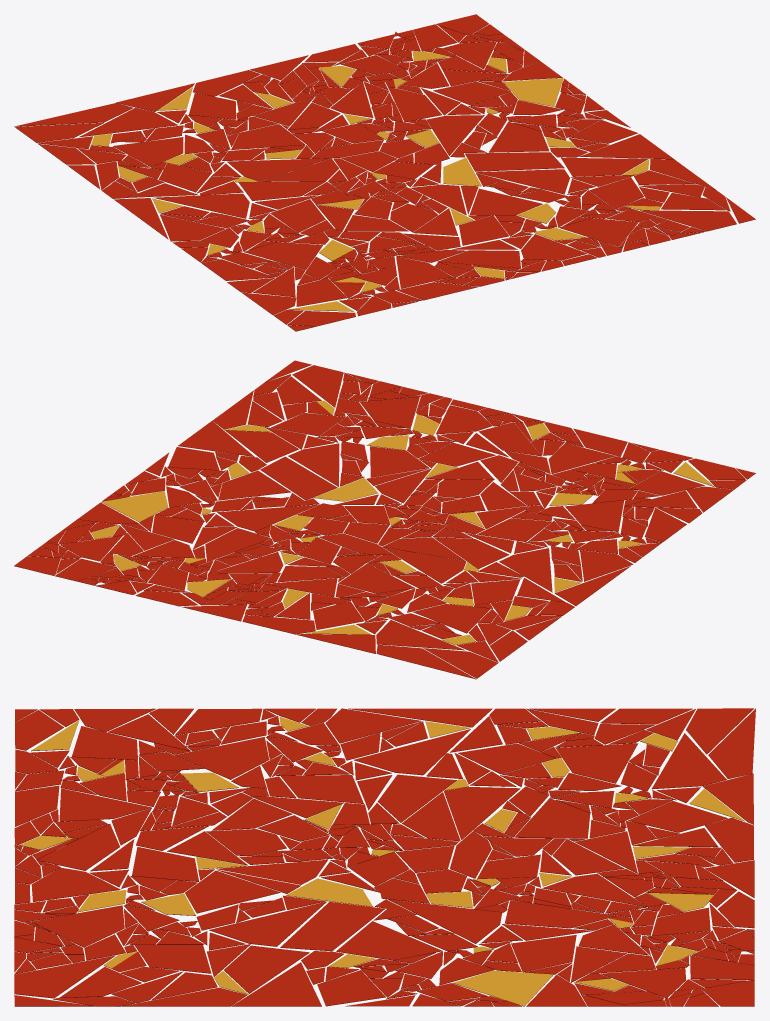
Rendered from PisoCaquinhoCOmplete.fbx.
The picture shows the model from 3 angles, top to bottom: view 1: azimuth 30°, elevation 25°; view 2: azimuth 150°, elevation 25°; view 3: azimuth 270°, elevation 25°; orthographic projection. The views are drawn at different scales.
Visible parts, largest first — view 1: Cube.038; view 2: Cube.038; view 3: Cube.038.
Boxes of the visible parts, x1=… form: Cube.038: x1=14, y1=14, x2=755, y2=331; Cube.038: x1=14, y1=360, x2=755, y2=679; Cube.038: x1=14, y1=708, x2=755, y2=1006.
Size of the model in its own units: 1403 by 8.53 by 1476.
